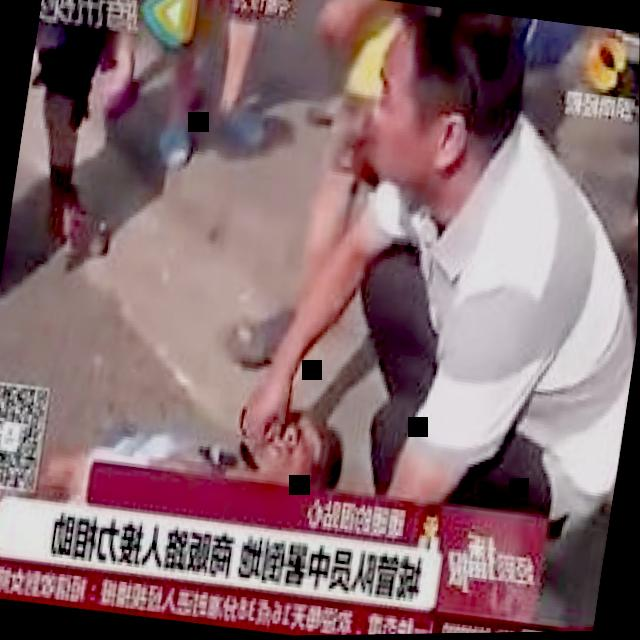Fall-Detected: (0, 322, 373, 623)
